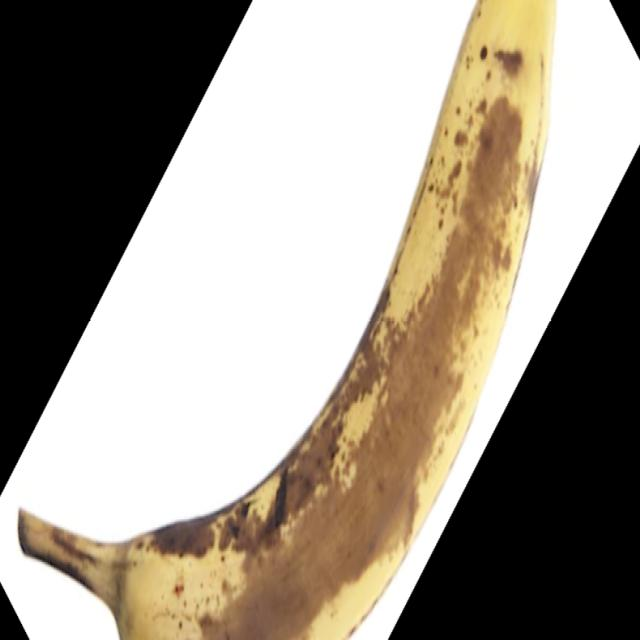overripe: (16, 0, 559, 640)
